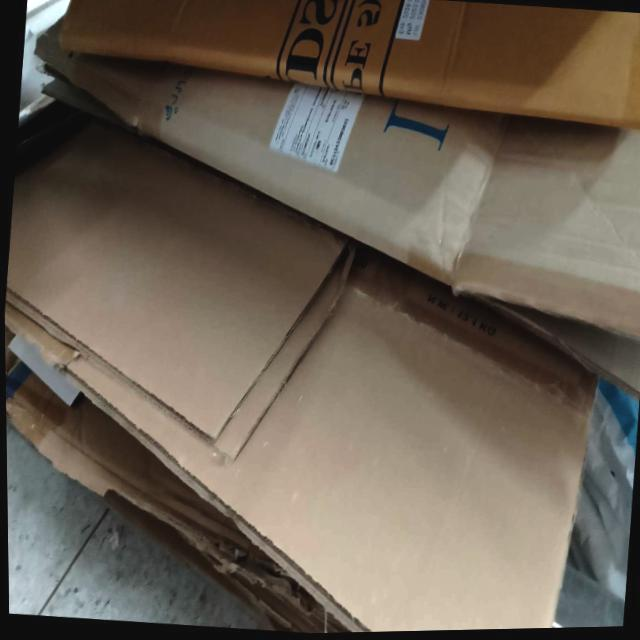General: (3, 1, 638, 632)
Sharps: (6, 330, 83, 408)
